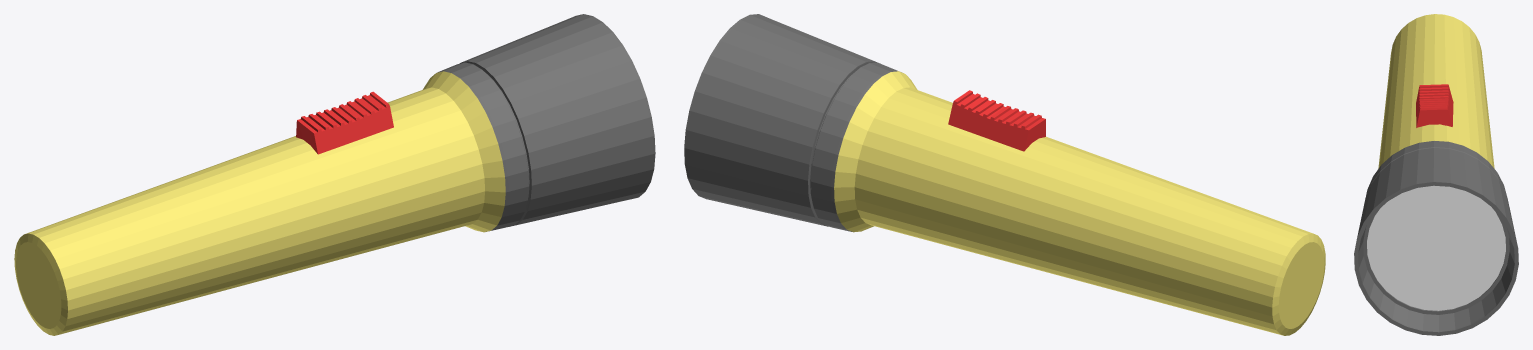
The model's file is 6a8e05dd-ac36-4195-8940-e10cec0d2edc.glb.
3 renders of one model, left to right at view 1: azimuth 30°, elevation 25°; view 2: azimuth 150°, elevation 25°; view 3: azimuth 270°, elevation 25°, orthographic. The views are drawn at different scales.
Parts seen in each view (by area): view 1: Flashlight; view 2: Flashlight; view 3: Flashlight.
Boxes of the visible parts, left/top/right/bottom form: Flashlight: left=14, top=14, right=655, bottom=335; Flashlight: left=684, top=14, right=1325, bottom=335; Flashlight: left=1354, top=14, right=1518, bottom=335.
Size of the model in its own units: 322 by 93.57 by 93.1.
